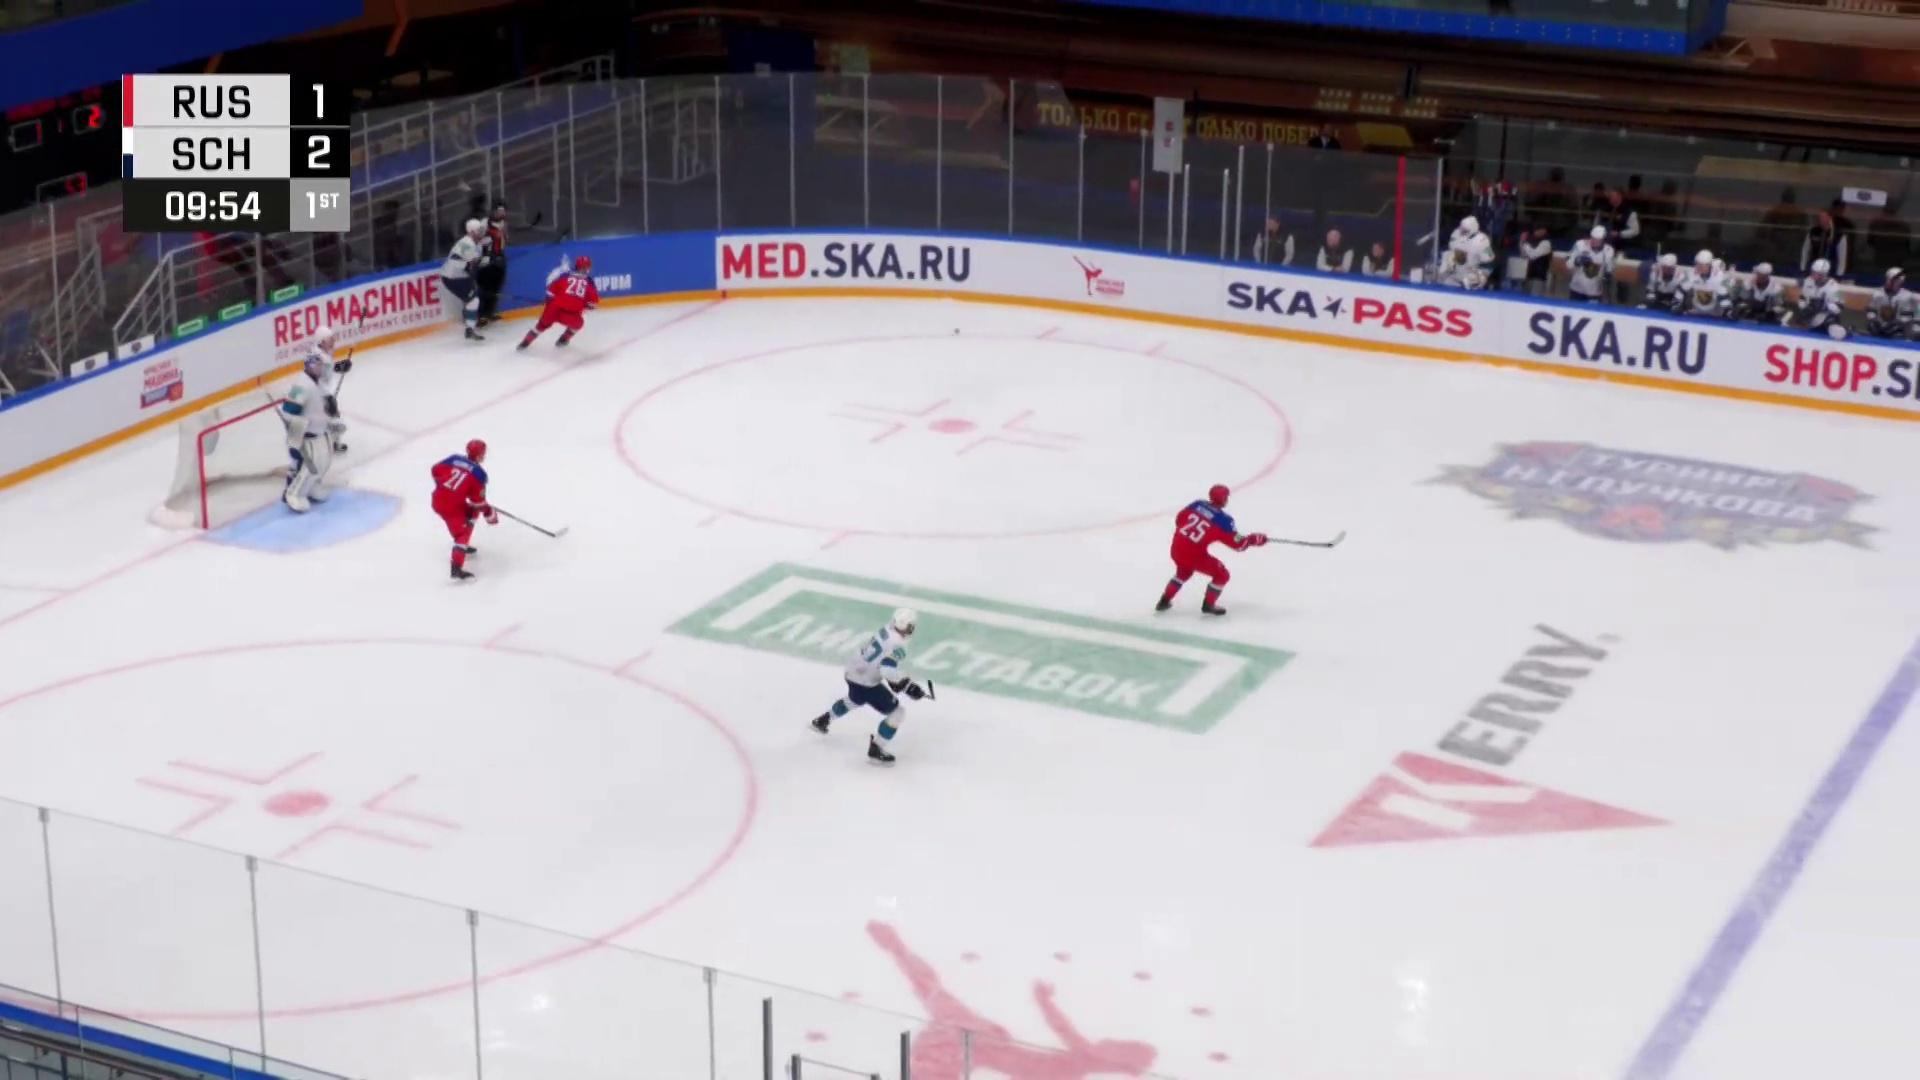ball: (953, 328, 960, 336)
